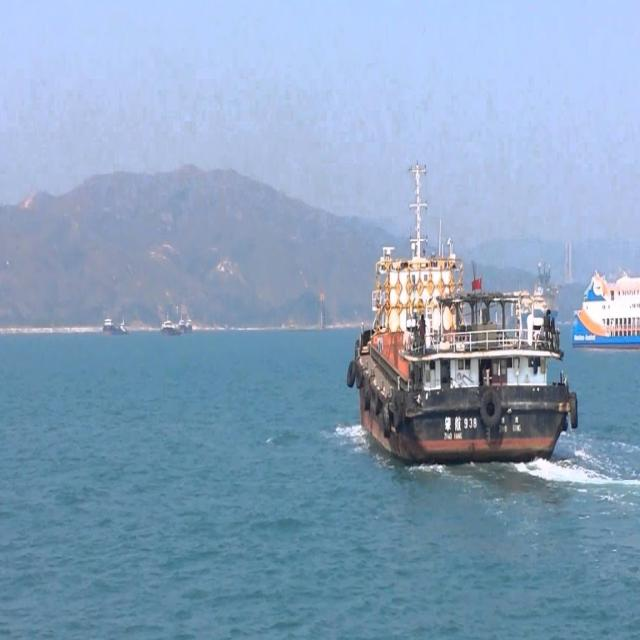fishing boat: (353, 157, 580, 466)
passenger ship: (574, 247, 640, 352)
